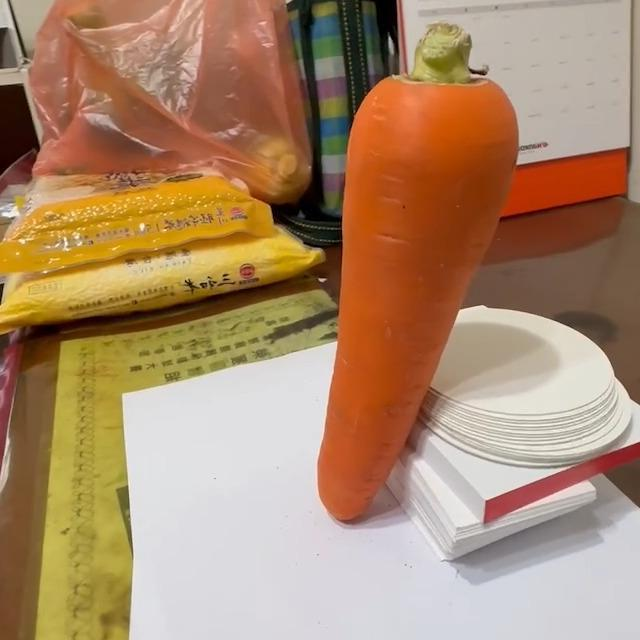carrot: (317, 25, 521, 529)
